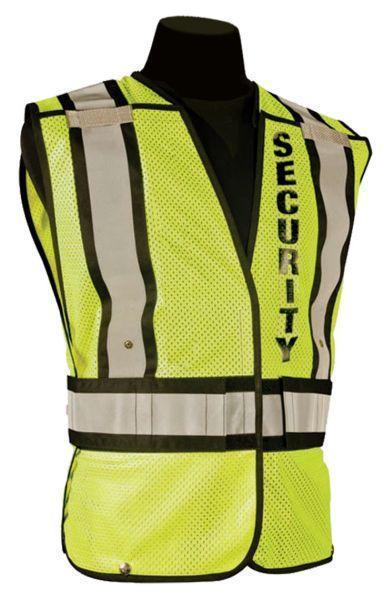vest: (17, 69, 374, 581)
